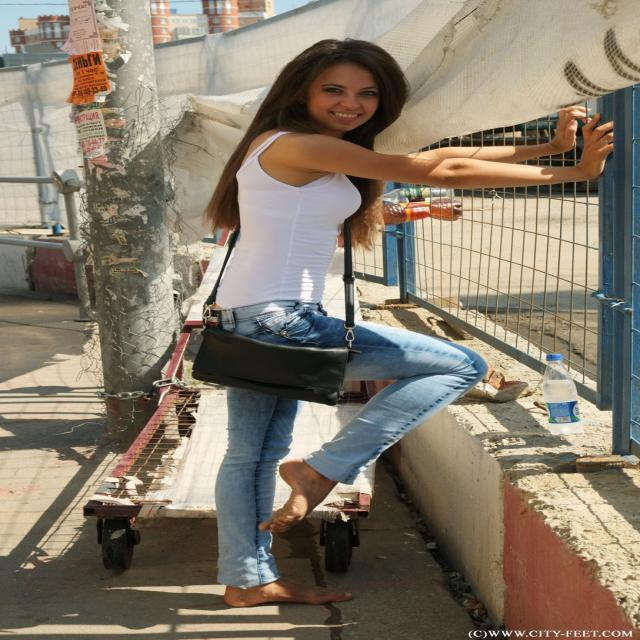No Safety Boots: (258, 458, 319, 534), (223, 578, 354, 608)
